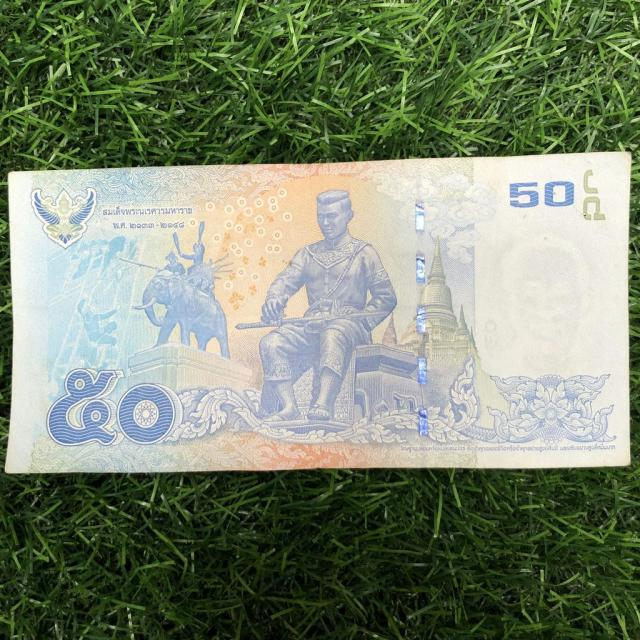THAI50: (4, 152, 632, 478)
